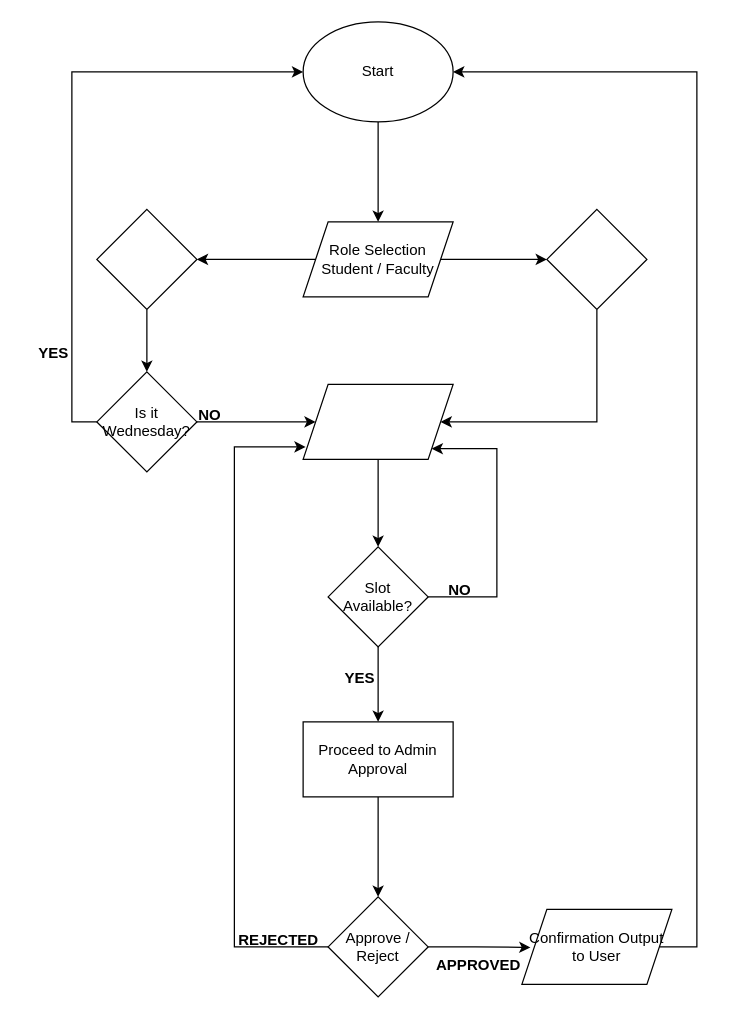
The diagram is 729 pixels wide and 1019 high, and some of its shapes have lost their labels. Here are the shapes that lost their labels. From the top down, the centre of each, then its label:
At (x=146, y=258): "IF Student".
At (x=596, y=258): "IF Faculty".
At (x=377, y=421): "Date and Time Selection".
